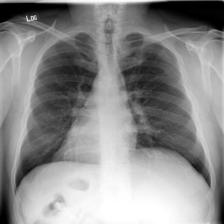normal: (6, 22, 214, 195)
